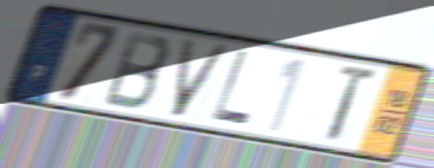1: (266, 57, 307, 135)
7: (56, 17, 126, 105)
B: (100, 28, 174, 113)
L: (208, 48, 253, 129)
T: (324, 61, 382, 145)
V: (168, 36, 234, 121)
